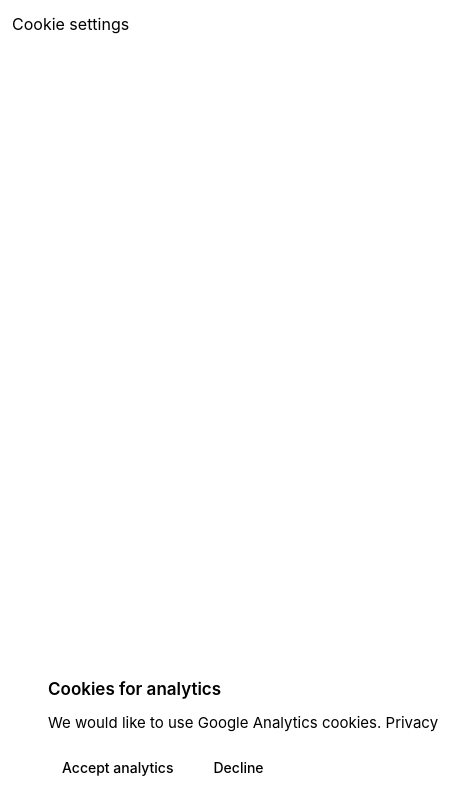
analytics consent (CPR-109) › loads Google Analytics after accepting and remembers the choice
Click the button "Accept analytics". click: (118, 768)
box: x1=48 y1=750 x2=188 y2=786
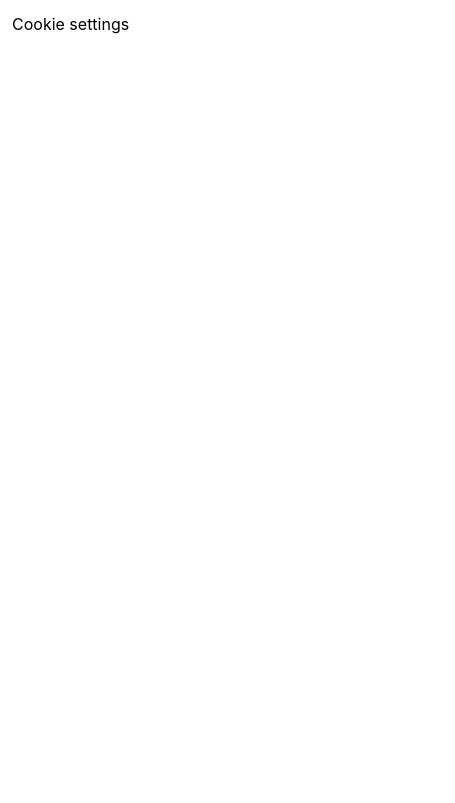
Result: the heading "Cookies for analytics" is gone
